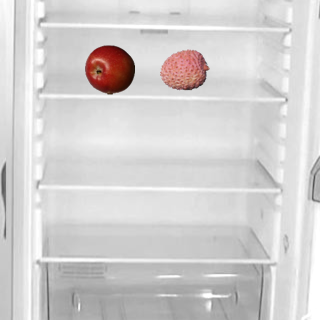Apple Braeburn: (84, 44, 134, 94)
Lychee: (159, 44, 209, 94)
